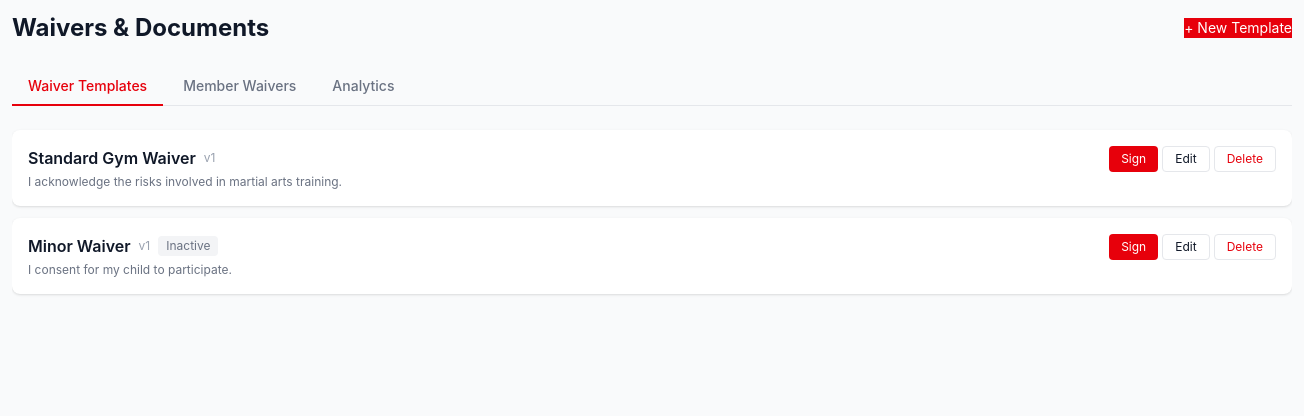
Test: Waivers Page › shows parent pending status banner for under-18 member
The width and height of the screenshot is (1304, 416).
Click the tab "Member Waivers": coordinates (240, 87) [167, 68, 312, 106]
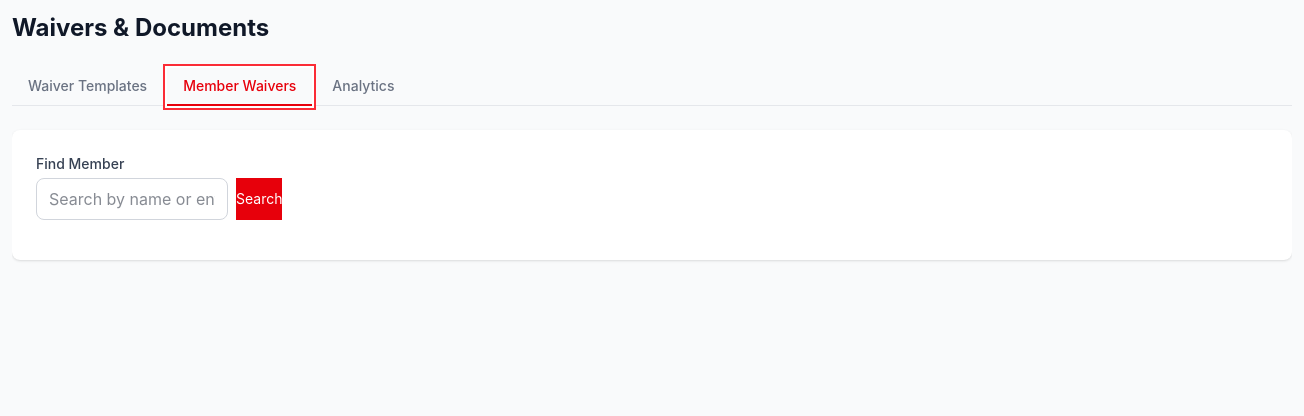
In the field named "Search member": coordinates (132, 199) [36, 178, 228, 220], type "1"
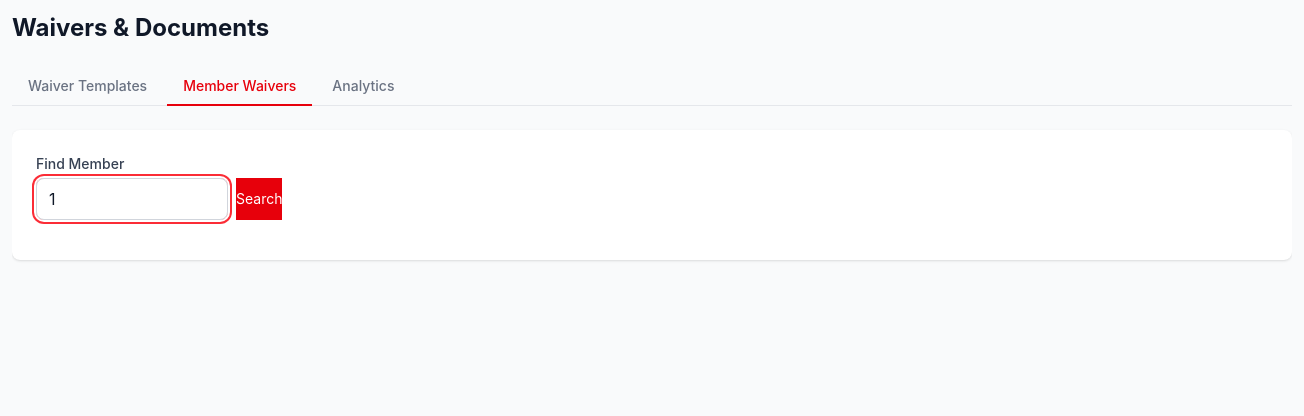
Click the button "Search": coordinates (259, 199) [236, 178, 282, 220]
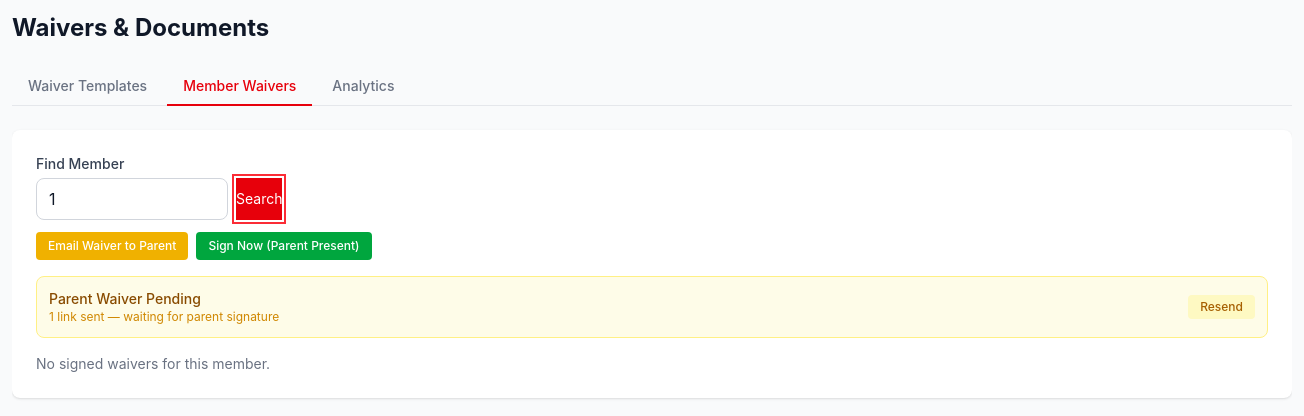
Now the text "Parent Waiver Pending" is shown, box [49, 290, 201, 307]
Now the text "1 link sent — waiting for parent signature" is shown, box [49, 309, 279, 325]
Now the button "Resend" is shown, box [1188, 295, 1255, 319]
